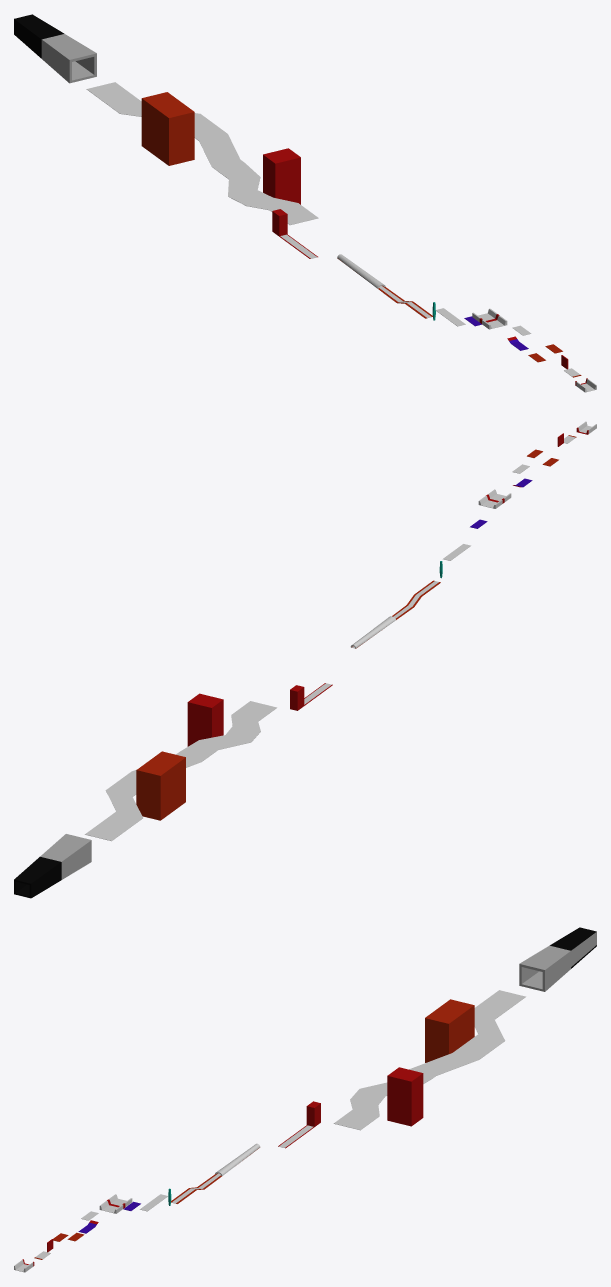
File: road2.obj
3 renders of one model, top to bottom at view 1: azimuth 30°, elevation 25°; view 2: azimuth 150°, elevation 25°; view 3: azimuth 330°, elevation 25°, orthographic. The views are drawn at different scales.
Parts seen in each view (by area): view 1: Cube_Cube.001; view 2: Cube_Cube.001; view 3: Cube_Cube.001.
Boxes of the visible parts, <box> form: Cube_Cube.001: <box>14,14,596,392</box>; Cube_Cube.001: <box>14,421,596,898</box>; Cube_Cube.001: <box>14,927,596,1272</box>.
Size of the model in its own units: 67.83 by 88.58 by 937.
